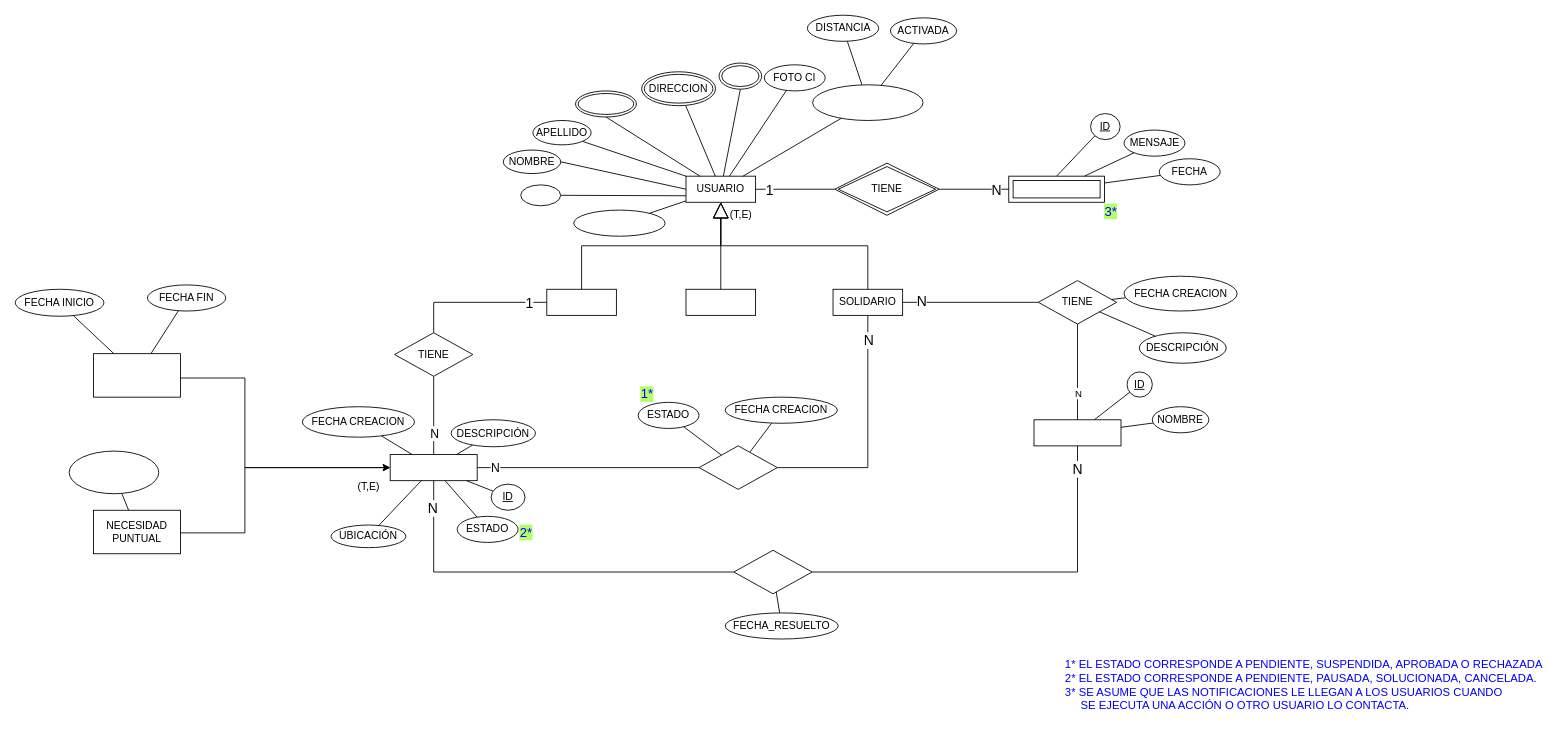
This 1565x733 diagram has some shape labels left out. The centre of each missing label's shape, as x and y in pixels:
"ADMIN" goes at (x=720, y=301).
"CI" goes at (x=540, y=195).
"CONFIGURACIÓN GEO" goes at (x=867, y=102).
"CONTRASEÑA" goes at (x=619, y=222).
"EMAIL" goes at (x=605, y=103).
"FECHA EXPIRACIÓN" goes at (x=113, y=472).
"HABILIDAD" goes at (x=1077, y=432).
"NECESIDAD" goes at (x=433, y=467).
"NECESIDAD TEMPORAL" goes at (x=137, y=375).
"NECESITADO" goes at (x=581, y=301).
"NOTIFICACION" goes at (x=1056, y=188).
"POSTULA" goes at (x=737, y=467).
"REQUIERE" goes at (x=772, y=571).
"TEL" goes at (x=740, y=75).
